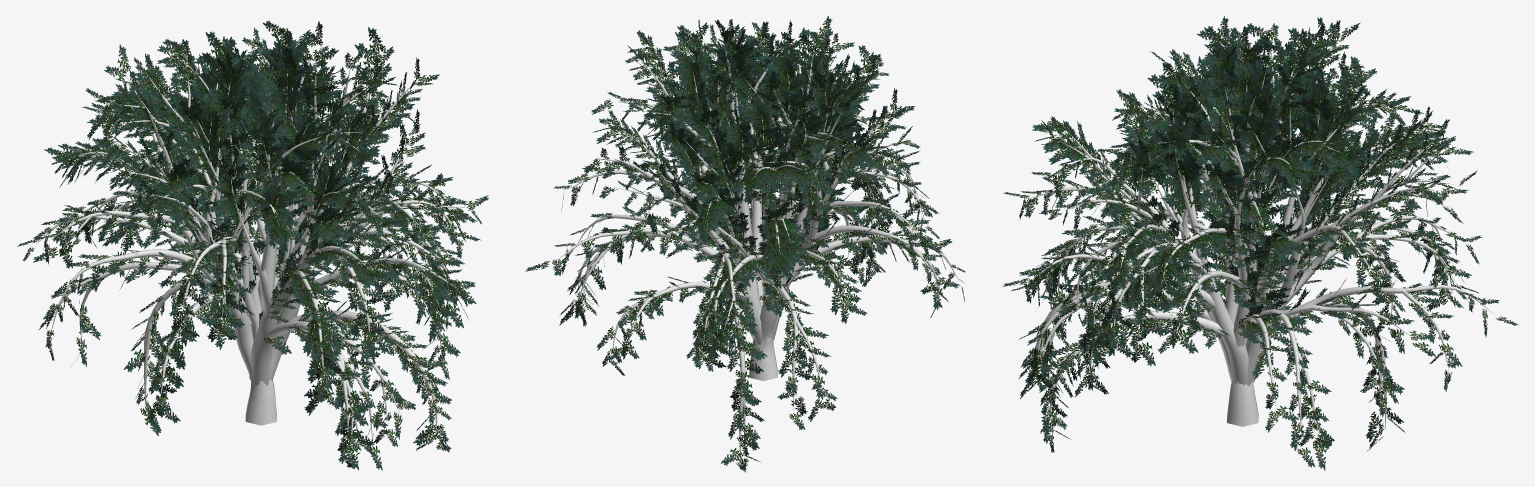
Rendered from DetailedTreeTall.fbx.
3 renders of one model, left to right at view 1: azimuth 30°, elevation 25°; view 2: azimuth 150°, elevation 25°; view 3: azimuth 270°, elevation 25°, orthographic. The views are drawn at different scales.
Parts seen in each view (by area): view 1: LeavesTall_LOD0, TreeTall_LOD0; view 2: LeavesTall_LOD0, TreeTall_LOD0; view 3: LeavesTall_LOD0, TreeTall_LOD0.
Boxes of the visible parts, x1,y1,x2,y2 form: LeavesTall_LOD0: (17,20,488,470); TreeTall_LOD0: (36,39,467,446); LeavesTall_LOD0: (525,16,965,472); TreeTall_LOD0: (553,38,960,465); LeavesTall_LOD0: (1002,16,1518,470); TreeTall_LOD0: (1029,43,1494,443).
Size of what is drawn, in the model's own units: 808 by 810 by 854.
